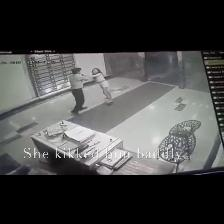person: (69, 68, 89, 114), (91, 68, 113, 105)
